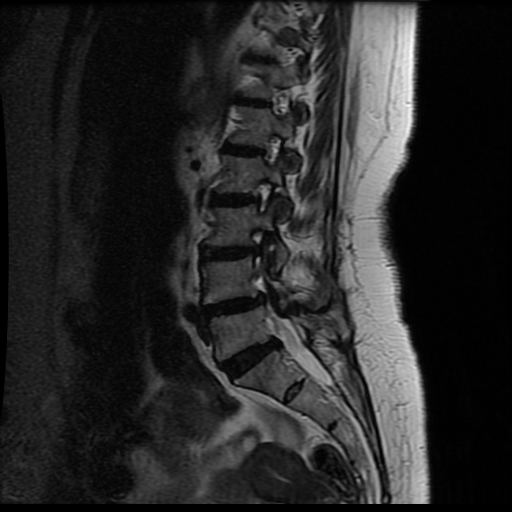LFS0: (246, 124, 293, 174), (241, 176, 286, 221)
